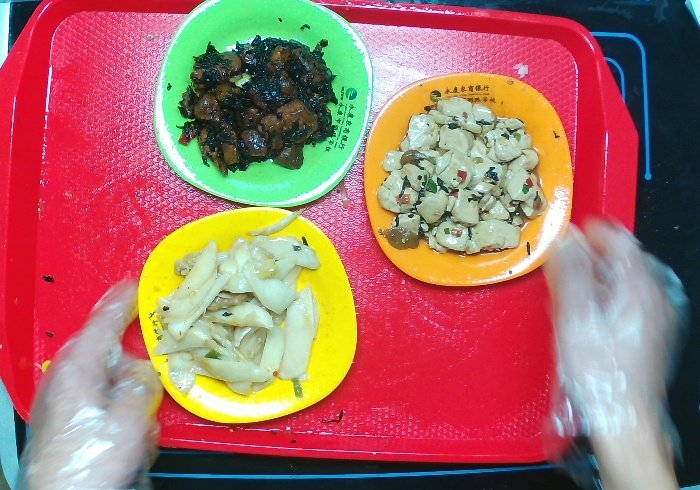YKMZ-Huang_Se_Fang_Die: (133, 204, 359, 431)
YKMZ-Ju_Se_Fang_Die: (356, 67, 577, 295)
YKMZ-Lv_Se_Fang_Die: (149, 1, 375, 211)
